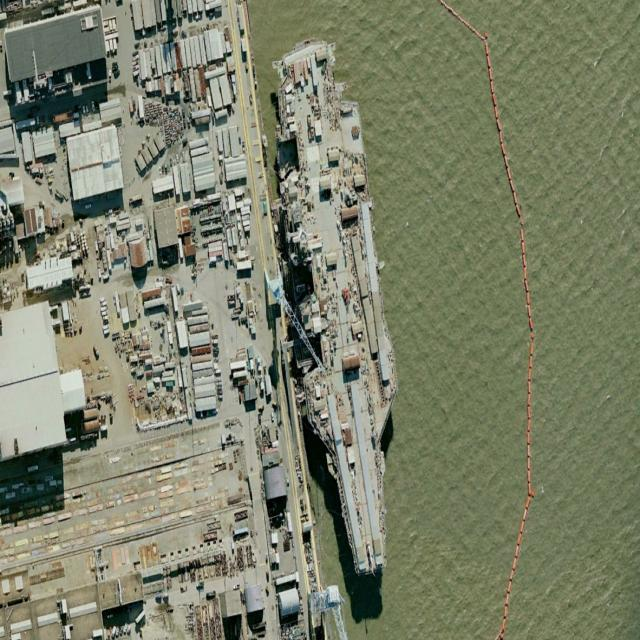Aircraft Carrier: (259, 26, 422, 589)
